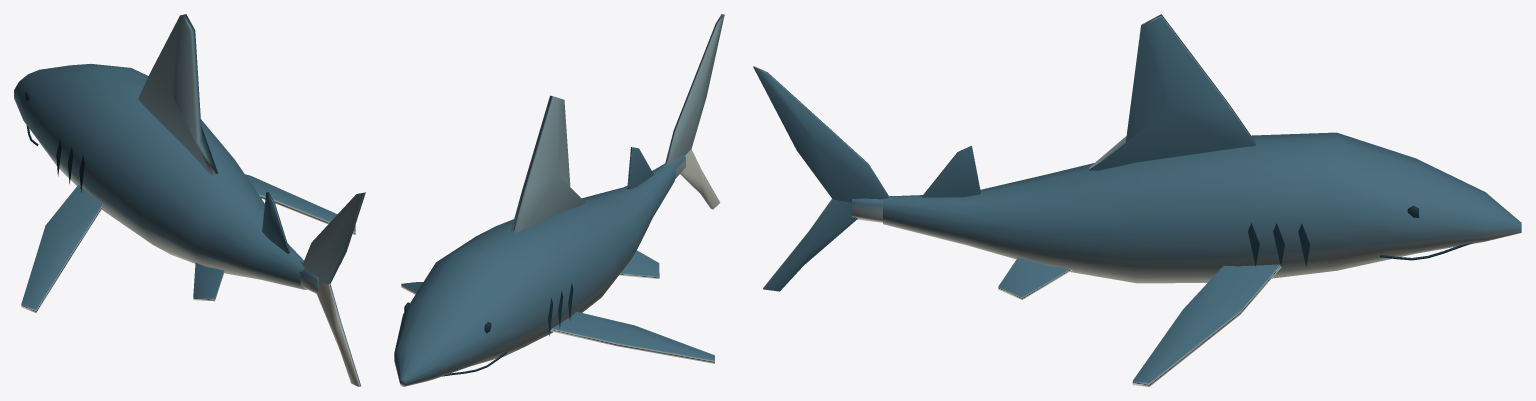
File: shark.glb
3 renders of one model, left to right at view 1: azimuth 30°, elevation 25°; view 2: azimuth 150°, elevation 25°; view 3: azimuth 270°, elevation 25°, orthographic. The views are drawn at different scales.
Visible parts, largest first — view 1: body_surface, anim_tail_surface, anim_flipper_L_surface, anim_flipper_R_surface; view 2: body_surface, anim_tail_surface, anim_flipper_L_surface; view 3: body_surface, anim_tail_surface, anim_flipper_R_surface.
Part boxes in pixels (x1=…): body_surface: x1=14, y1=14, x2=307, y2=301; anim_tail_surface: x1=299, y1=192, x2=365, y2=386; anim_flipper_L_surface: x1=21, y1=184, x2=103, y2=312; anim_flipper_R_surface: x1=245, y1=174, x2=355, y2=234; body_surface: x1=394, y1=95, x2=675, y2=386; anim_tail_surface: x1=663, y1=14, x2=724, y2=209; anim_flipper_L_surface: x1=550, y1=312, x2=714, y2=363; body_surface: x1=883, y1=14, x2=1521, y2=299; anim_tail_surface: x1=753, y1=66, x2=897, y2=291; anim_flipper_R_surface: x1=1132, y1=264, x2=1281, y2=386.
Bounding box in the file's own units: 1.81 × 1.29 × 3.2.
